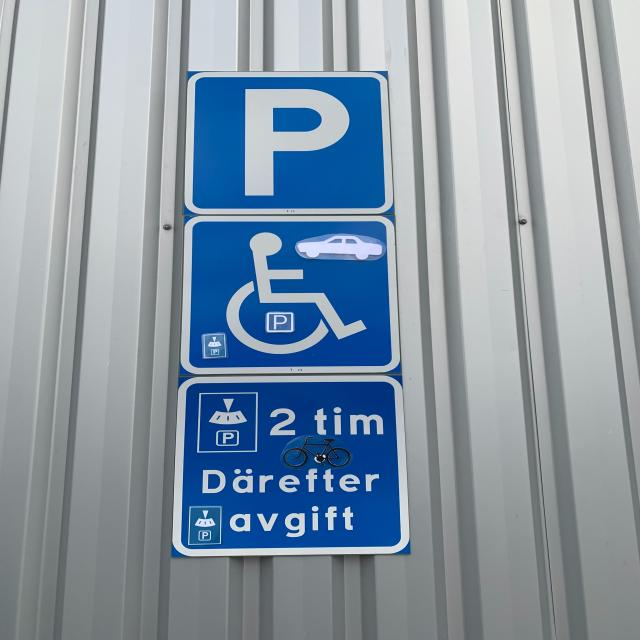psign: (182, 69, 396, 214)
